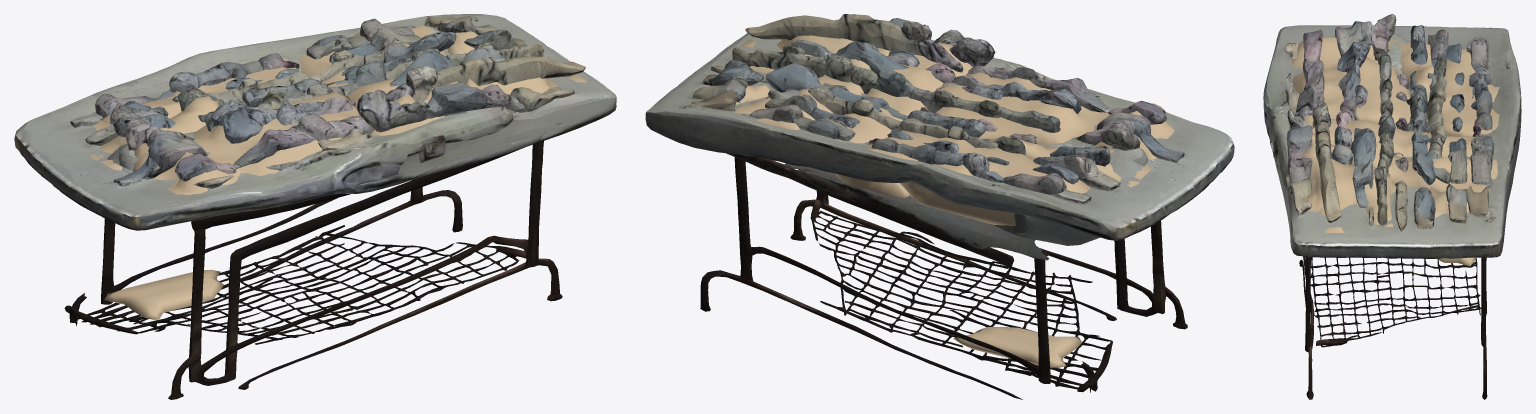
The model's file is folding_table_chunks.glb.
3 views of the same model, side by side, from view 1: azimuth 30°, elevation 25°; view 2: azimuth 150°, elevation 25°; view 3: azimuth 270°, elevation 25° (orthographic). The views are drawn at different scales.
Visible parts, largest first — view 1: chunk1_shell, chunk3_shell, chunk0_shell, chunk5_shell, chunk2_shell, chunk4_shell, chunk3_core, chunk1_core, chunk4_core, chunk5_core, chunk0_core; view 2: chunk3_shell, chunk5_shell, chunk2_shell, chunk1_shell, chunk0_shell, chunk3_core, chunk4_shell, chunk1_core, chunk5_core, chunk2_core, chunk0_core, chunk4_core; view 3: chunk0_shell, chunk1_shell, chunk3_shell, chunk2_shell, chunk5_shell, chunk1_core, chunk0_core, chunk5_core, chunk4_shell, chunk3_core, chunk2_core, chunk4_core.
Part boxes in pixels (box(x1,y1,x2,y2)): chunk1_shell: box(86, 52, 416, 323); chunk3_shell: box(69, 31, 458, 399); chunk0_shell: box(437, 14, 616, 301); chunk5_shell: box(14, 37, 300, 318); chunk2_shell: box(311, 15, 483, 318); chunk4_shell: box(37, 89, 251, 329); chunk3_core: box(104, 51, 444, 319); chunk1_core: box(133, 92, 359, 194); chunk4_core: box(89, 96, 219, 170); chunk5_core: box(94, 58, 299, 130); chunk0_core: box(447, 31, 586, 94); chunk3_shell: box(795, 21, 1187, 399); chunk5_shell: box(830, 124, 1159, 388); chunk2_shell: box(700, 20, 946, 328); chunk1_shell: box(866, 24, 1234, 250); chunk0_shell: box(645, 14, 909, 303); chunk3_core: box(835, 42, 1082, 367); chunk4_shell: box(967, 132, 1211, 262); chunk1_core: box(932, 67, 1174, 159); chunk5_core: box(866, 130, 1090, 226); chunk2_core: box(734, 48, 890, 129); chunk0_core: box(735, 35, 853, 104); chunk4_core: box(987, 136, 1151, 187); chunk0_shell: box(1279, 129, 1504, 399); chunk1_shell: box(1263, 14, 1443, 132); chunk3_shell: box(1266, 105, 1518, 308); chunk2_shell: box(1279, 123, 1513, 399); chunk5_shell: box(1428, 27, 1521, 145); chunk1_core: box(1291, 37, 1428, 132); chunk0_core: box(1302, 143, 1469, 233); chunk5_core: box(1426, 49, 1499, 136); chunk4_shell: box(1391, 25, 1447, 116); chunk3_core: box(1289, 115, 1493, 266); chunk2_core: box(1312, 133, 1497, 192); chunk4_core: box(1392, 38, 1433, 101).
Size of the model in its own units: 1.64 by 0.85 by 0.8.
Materials: 1 (1 with a texture image).
